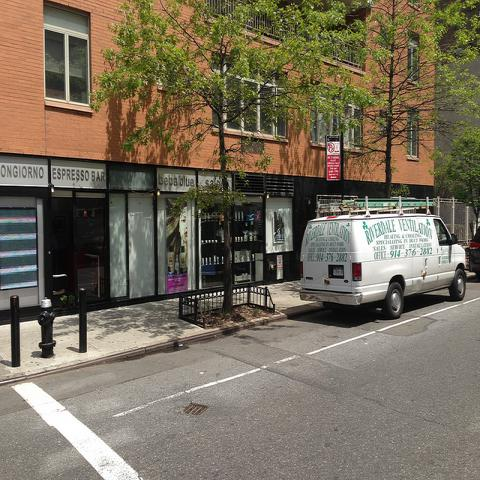car: (299, 195, 468, 317), (469, 225, 479, 282)
truck: (299, 196, 470, 317)
